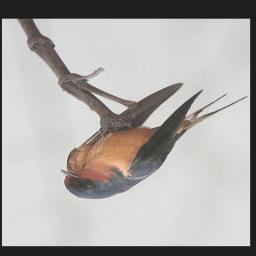Swallow: (58, 84, 245, 201)
